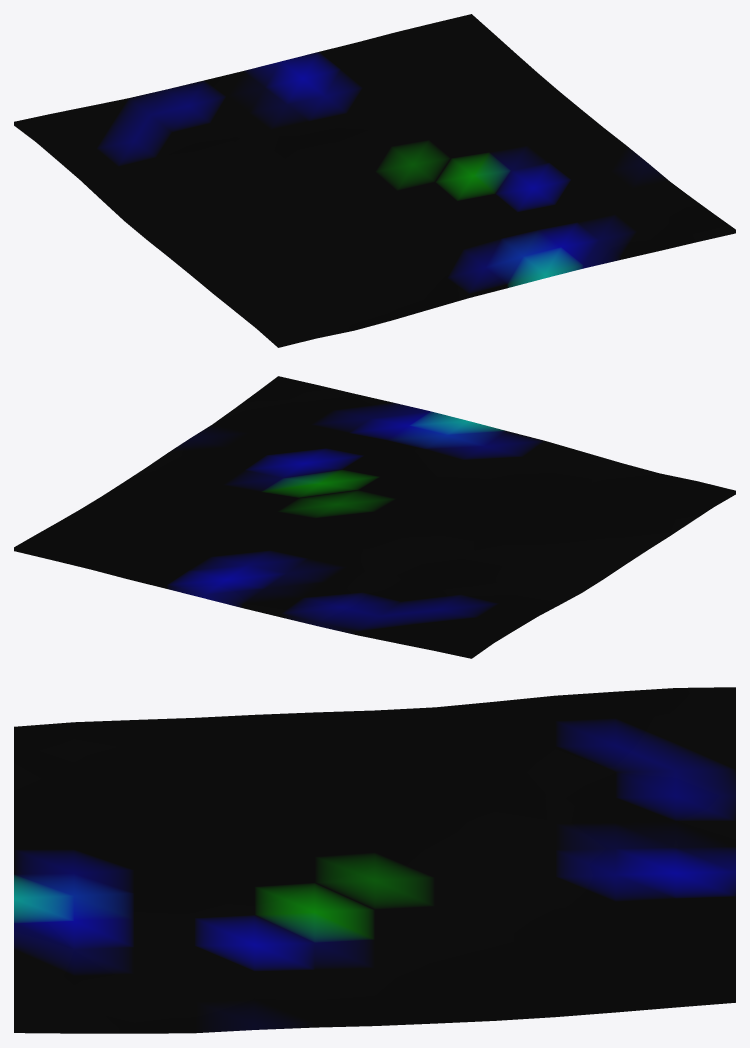
File: coast_15_4.glb
3 views of the same model, one above another, from view 1: azimuth 30°, elevation 25°; view 2: azimuth 150°, elevation 25°; view 3: azimuth 270°, elevation 25° (orthographic). The views are drawn at different scales.
Visible parts, largest first — view 1: terrain; view 2: terrain; view 3: terrain.
Boxes of the visible parts, left/top/right/bottom form: terrain: left=14, top=14, right=735, bottom=347; terrain: left=14, top=376, right=735, bottom=658; terrain: left=14, top=687, right=735, bottom=1033.
Bounding box in the file's own units: 192 × 13.63 × 192.
